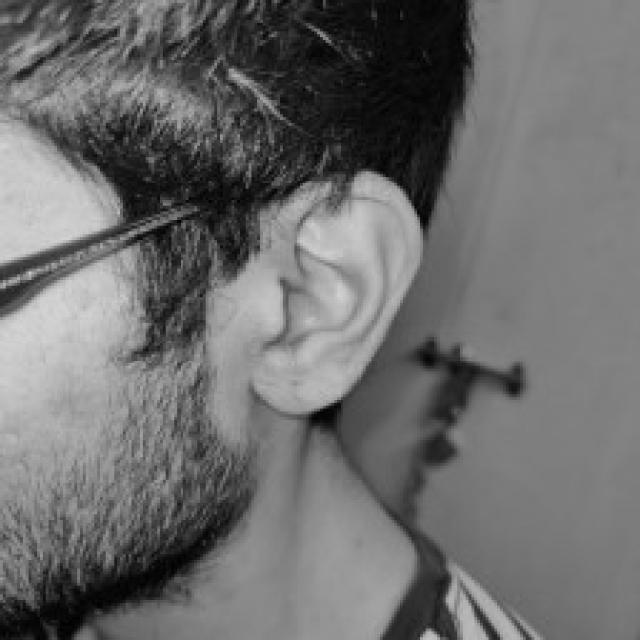ear: (251, 171, 420, 411)
